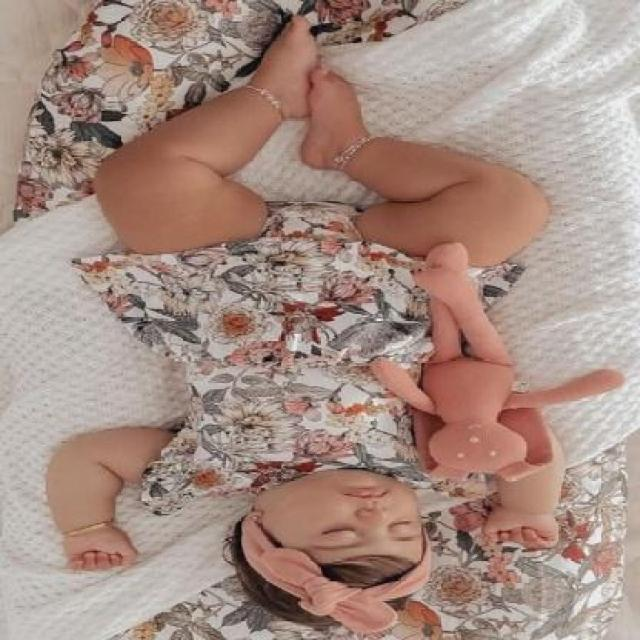baby: (44, 15, 562, 631)
